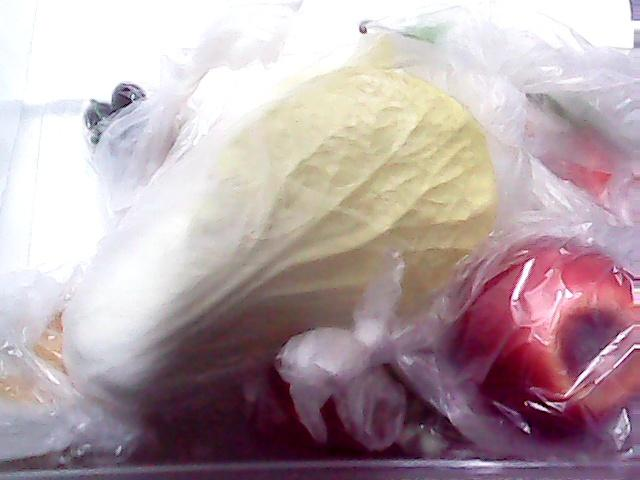apple: (422, 213, 640, 439)
carrot: (508, 46, 640, 208)
grape: (66, 80, 168, 196)
napa cabbage: (33, 66, 499, 394)
peach: (240, 362, 404, 480)
potato: (0, 315, 82, 421)
